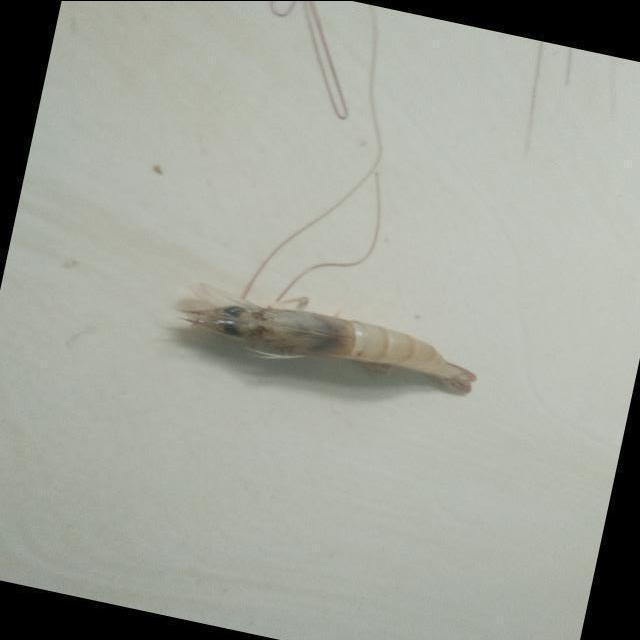shrimp: (172, 304, 477, 394)
